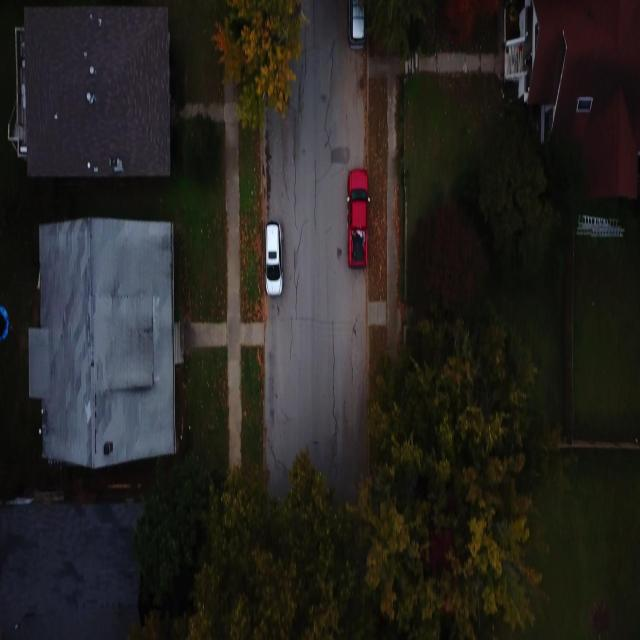Car: (343, 151, 372, 280), (264, 222, 286, 299), (348, 0, 366, 49)
